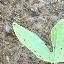Morning glory: (4, 14, 64, 64)
